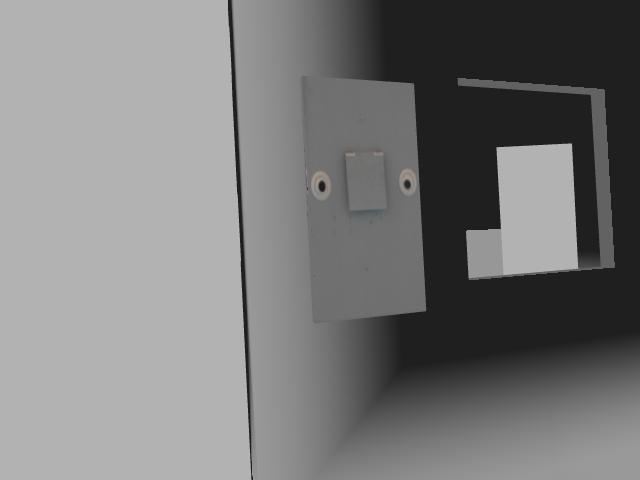facade: (308, 147, 419, 213)
